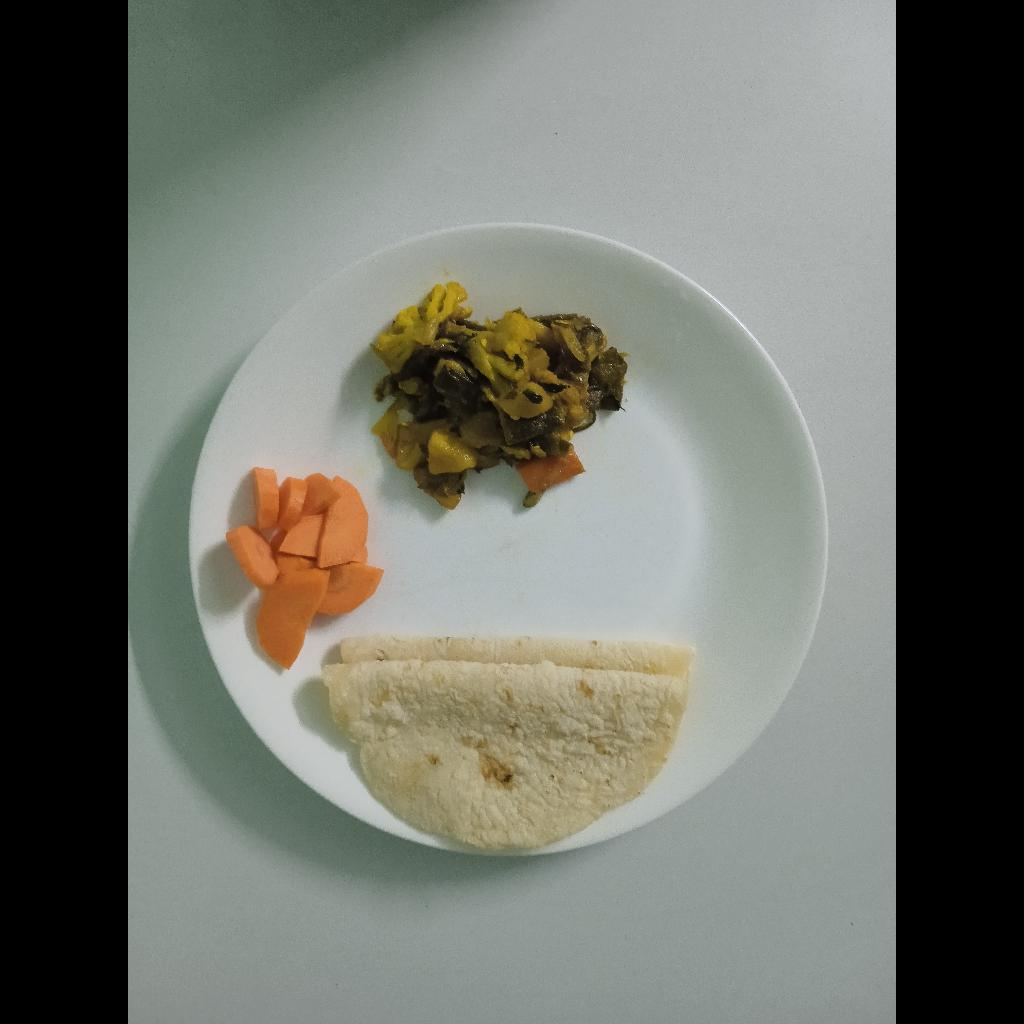carrot: (226, 469, 385, 672)
ruti: (322, 637, 696, 849)
vegetable: (369, 288, 630, 512)
